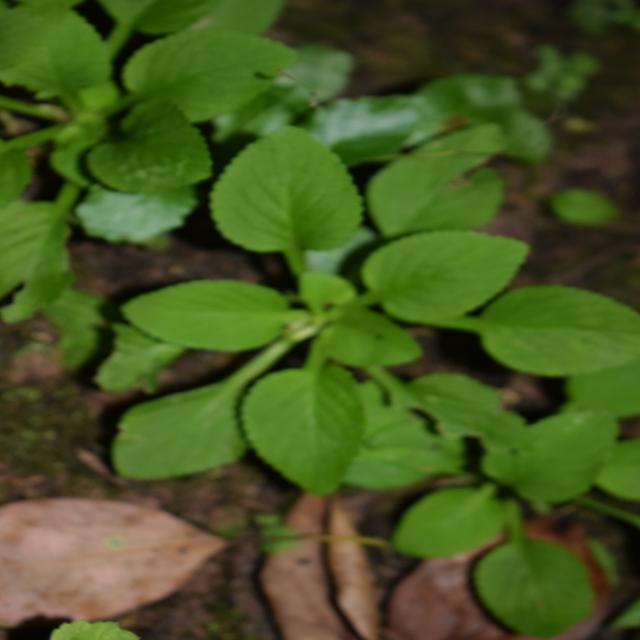Viola: (133, 20, 487, 515)
